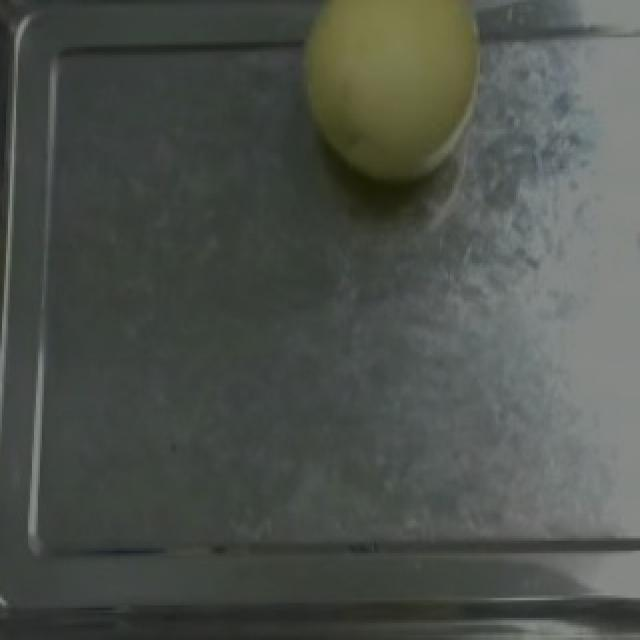Fruit: (284, 0, 494, 198)
